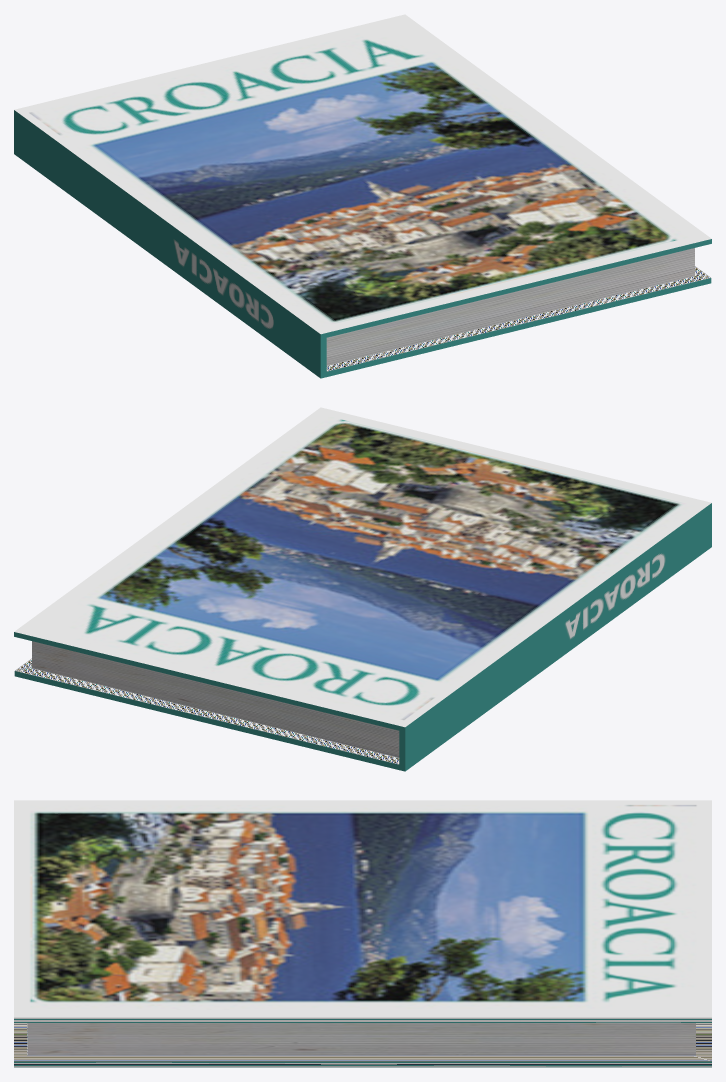
File: Book 3.FBX
The picture shows the model from 3 angles, top to bottom: view 1: azimuth 30°, elevation 25°; view 2: azimuth 150°, elevation 25°; view 3: azimuth 270°, elevation 25°; orthographic projection. The views are drawn at different scales.
Parts seen in each view (by area): view 1: Book 3; view 2: Book 3; view 3: Book 3.
Boxes of the visible parts, box(x1,y1,x2,y2) form: Book 3: box(14, 14, 711, 378); Book 3: box(14, 407, 711, 771); Book 3: box(14, 800, 711, 1067).
Size of the model in its own units: 13.59 by 1.47 by 18.45.
1 material, 1 textured.
